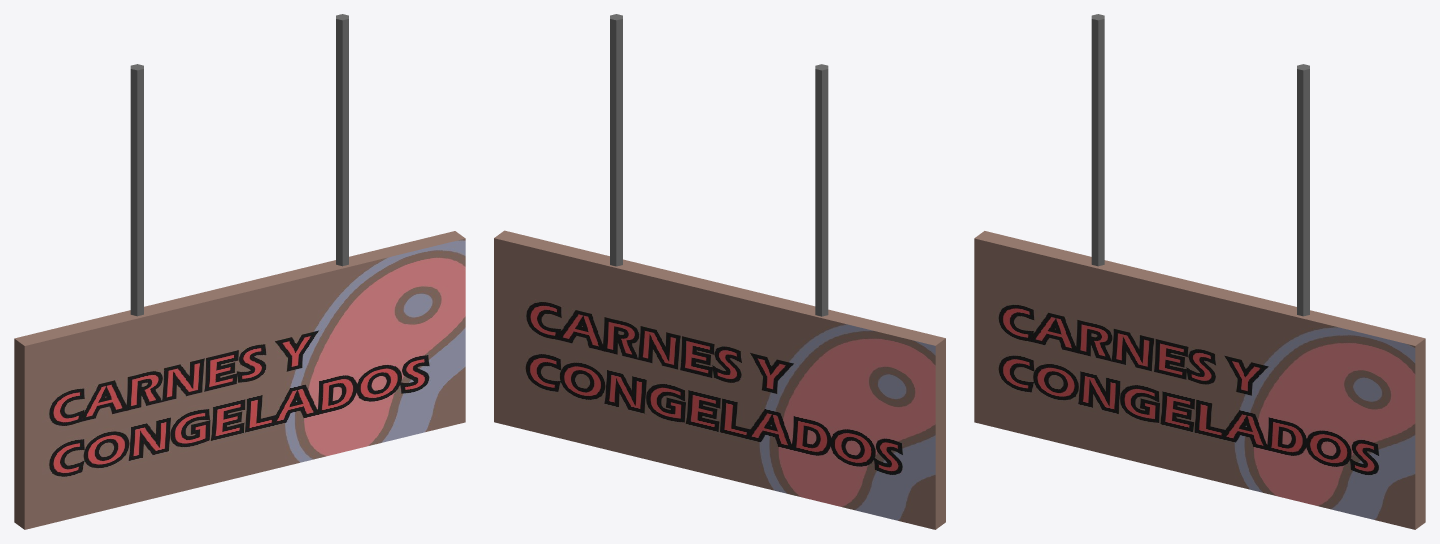
File: cartel_03.fbx
3 renders of one model, left to right at view 1: azimuth 30°, elevation 25°; view 2: azimuth 150°, elevation 25°; view 3: azimuth 330°, elevation 25°, orthographic.
Visible parts, largest first — view 1: Cartel CONGELADOS; view 2: Cartel CONGELADOS; view 3: Cartel CONGELADOS.
Part boxes in pixels (box(x1,y1,x2,y2)): Cartel CONGELADOS: box(14, 14, 465, 529); Cartel CONGELADOS: box(494, 14, 945, 529); Cartel CONGELADOS: box(974, 14, 1425, 529).
Size of the model in its own units: 173 by 161 by 7.08.
3 materials, 1 textured.
